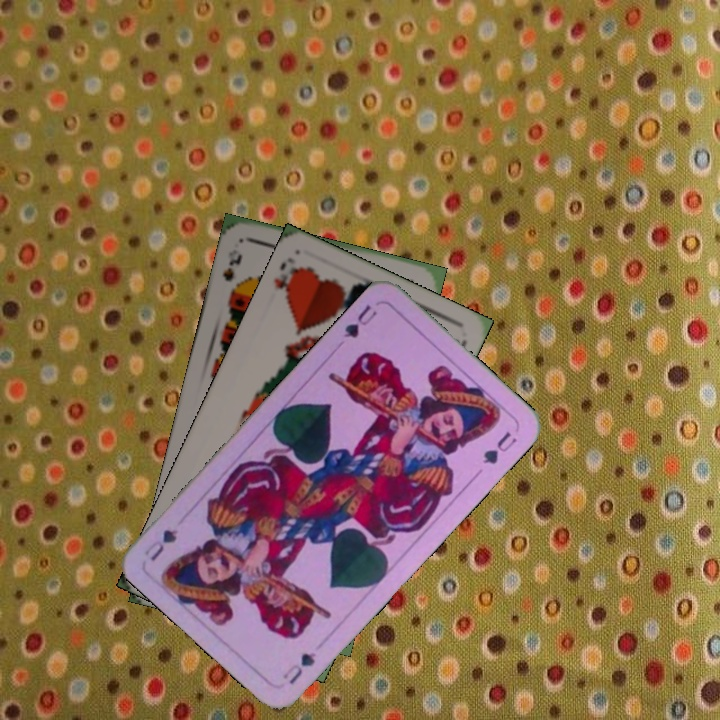GU: (339, 300, 380, 341), (278, 648, 319, 687)
HO: (269, 253, 304, 301)
S9: (218, 250, 245, 301)
